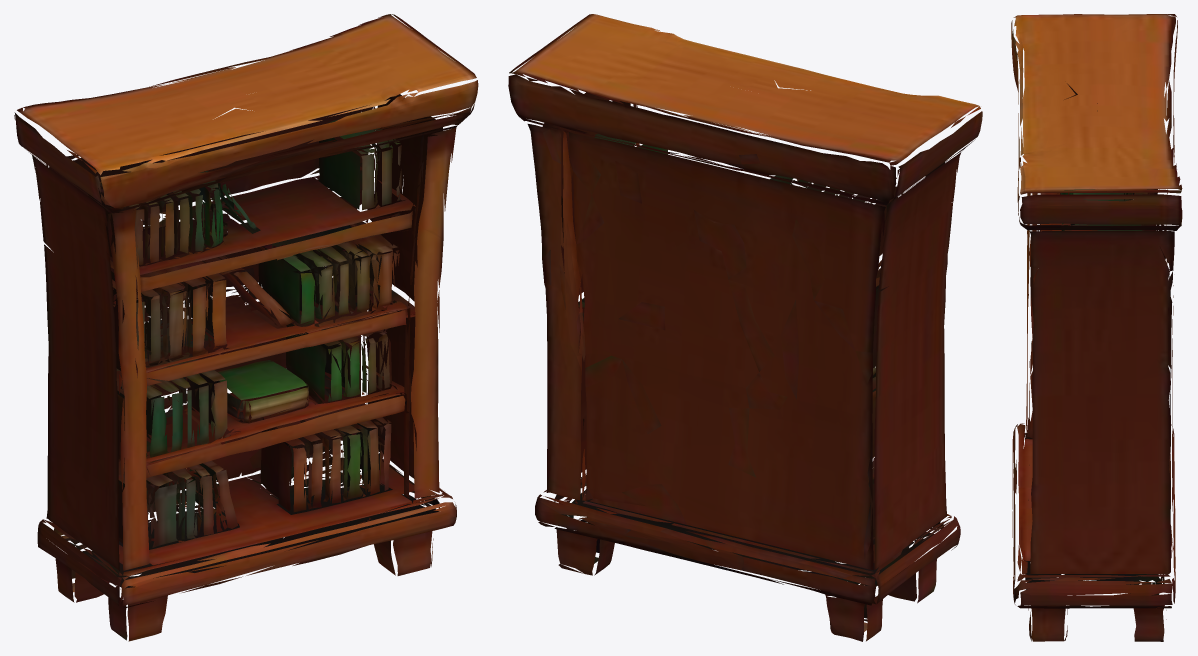
File: bookcase.glb
3 views of the same model, side by side, from view 1: azimuth 30°, elevation 25°; view 2: azimuth 150°, elevation 25°; view 3: azimuth 270°, elevation 25° (orthographic). The views are drawn at different scales.
Visible parts, largest first — view 1: world.001; view 2: world.001; view 3: world.001.
Part boxes in pixels (box(x1,y1,x2,y2)): world.001: box(14, 14, 478, 641); world.001: box(508, 14, 982, 641); world.001: box(1011, 14, 1182, 641).
Bounding box in the file's own units: 0.8271 × 0.9995 × 0.3327.
1 material, 1 textured.
